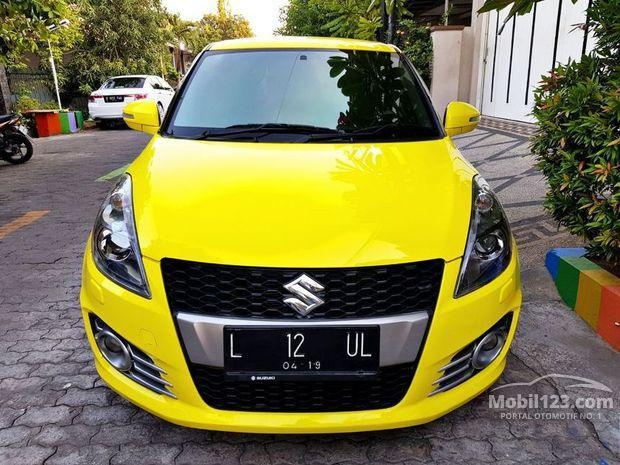plate: (227, 328, 377, 376)
